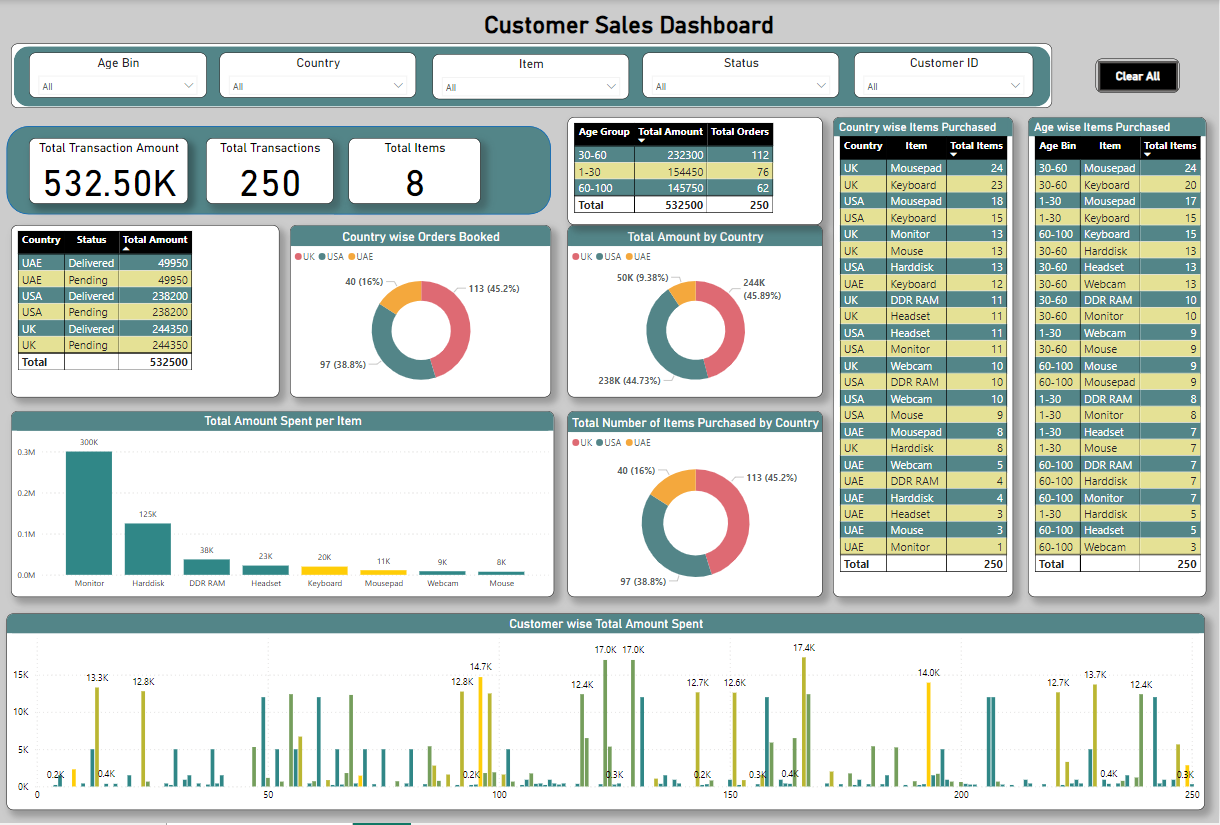

This screenshot's page, from the dashboard's own definition file:
{"tool":"powerbi","page":{"name":"Customer Sales","canvas":[1780,1200],"ordinal":0},"visuals":[{"type":"shape","box":[17.5,63.4,1517.9,94],"z":0,"group":"g1"},{"type":"shape","box":[10.9,183.7,793.9,129],"z":0},{"type":"card","title":"Total Transaction Amount","fields":{"Values":["Sum(Order.Amount)"]},"box":[43.7,201.2,231.8,96.2],"z":1000},{"type":"slicer","title":"Age Bin","fields":{"Values":["atkoe-u250m.Age Bin"]},"box":[44.5,76.6,259.2,65.8],"z":2000,"group":"g1"},{"type":"tableEx","fields":{"Values":["atkoe-u250m.Country","Shipping.Status","Sum(Order.Amount)"]},"box":[17.5,328.1,391.5,251.5],"z":2000},{"type":"slicer","title":"Item","fields":{"Values":["Order.Item"]},"box":[633,78.4,286.9,65.8],"z":3000,"group":"g1"},{"type":"clusteredColumnChart","title":"Customer wise Total Amount Spent","fields":{"Category":["atkoe-u250m.Customer_ID"],"Y":["Sum(Order.Amount)"]},"box":[10.9,894.5,1747.5,286.5],"z":3000},{"type":"slicer","title":"Country","fields":{"Values":["atkoe-u250m.Country"]},"box":[322.2,76.6,286.9,65.8],"z":4000,"group":"g1"},{"type":"donutChart","title":"Total Number of Items Purchased by Country","fields":{"Category":["atkoe-u250m.Country"],"Y":["CountNonNull(Order.Item)"]},"box":[828.9,599.3,371.8,271.2],"z":4000},{"type":"slicer","title":"Status","fields":{"Values":["Shipping.Status"]},"box":[938.4,76.6,286.9,65.8],"z":5000,"group":"g1"},{"type":"tableEx","title":"Age wise Items Purchased","fields":{"Values":["atkoe-u250m.Age Bin","Order.Item","CountNonNull(Order.Item)"]},"box":[1500.4,170.6,260.3,699.9],"z":5000},{"type":"slicer","title":"Customer ID","fields":{"Values":["atkoe-u250m.Customer_ID"]},"box":[1246.2,76.6,261.5,65.8],"z":6000,"group":"g1"},{"type":"clusteredColumnChart","title":"Total Amount Spent per Item","fields":{"Category":["Order.Item"],"Y":["Sum(Order.Amount)"]},"box":[17.5,599.3,791.8,271.2],"z":6000},{"type":"card","title":"Total Transactions","fields":{"Values":["CountNonNull(Order.Order_ID)"]},"box":[301.8,201.2,185.9,96.2],"z":7000},{"type":"tableEx","title":"Country wise Items Purchased","fields":{"Values":["atkoe-u250m.Country","Order.Item","CountNonNull(Order.Item)"]},"box":[1216.1,170.6,262.5,699.9],"z":8000},{"type":"donutChart","title":"Country wise Orders Booked","fields":{"Category":["atkoe-u250m.Country"],"Y":["Count(Order.Order_ID)"]},"box":[424.3,328.1,380.6,251.5],"z":9000},{"type":"donutChart","fields":{"Category":["atkoe-u250m.Country"],"Y":["Sum(Order.Amount)"]},"box":[828.9,328.1,371.8,251.5],"z":10000},{"type":"shape","box":[697.7,8.7,441.8,54.7],"z":11000},{"type":"group","id":"g1","title":"Group 1","box":[17.5,63.4,1517.9,94],"z":12000},{"type":"card","title":"Total Items","fields":{"Values":["Count(Order.Item)"]},"box":[509.6,201.2,192.5,96.2],"z":13000},{"type":"actionButton","box":[1598.8,85.3,122.5,50.3],"z":14000},{"type":"tableEx","fields":{"Values":["atkoe-u250m.Age Bin","Sum(Order.Amount)","CountNonNull(Order.Order_ID)"]},"box":[828.9,170.6,371.8,157.5],"z":14001}]}

Visuals, with their boxes in screenshot pixels (x1, y1, x2, y2), scaled from the page's 1780x1200 canvas onto the 1220x825 screenshot:
shape: {"x1": 12, "y1": 44, "x2": 1052, "y2": 108}
shape: {"x1": 7, "y1": 126, "x2": 552, "y2": 215}
"Total Transaction Amount" card: {"x1": 30, "y1": 138, "x2": 189, "y2": 204}
"Age Bin" slicer: {"x1": 30, "y1": 53, "x2": 208, "y2": 98}
tableEx - atkoe-u250m.Country x Shipping.Status: {"x1": 12, "y1": 226, "x2": 280, "y2": 398}
"Item" slicer: {"x1": 434, "y1": 54, "x2": 630, "y2": 99}
"Customer wise Total Amount Spent" clusteredColumnChart: {"x1": 7, "y1": 615, "x2": 1205, "y2": 812}
"Country" slicer: {"x1": 221, "y1": 53, "x2": 417, "y2": 98}
"Total Number of Items Purchased by Country" donutChart: {"x1": 568, "y1": 412, "x2": 823, "y2": 598}
"Status" slicer: {"x1": 643, "y1": 53, "x2": 840, "y2": 98}
"Age wise Items Purchased" tableEx: {"x1": 1028, "y1": 117, "x2": 1207, "y2": 598}
"Customer ID" slicer: {"x1": 854, "y1": 53, "x2": 1033, "y2": 98}
"Total Amount Spent per Item" clusteredColumnChart: {"x1": 12, "y1": 412, "x2": 555, "y2": 598}
"Total Transactions" card: {"x1": 207, "y1": 138, "x2": 334, "y2": 204}
"Country wise Items Purchased" tableEx: {"x1": 834, "y1": 117, "x2": 1013, "y2": 598}
"Country wise Orders Booked" donutChart: {"x1": 291, "y1": 226, "x2": 552, "y2": 398}
donutChart - atkoe-u250m.Country x Sum(Order.Amount): {"x1": 568, "y1": 226, "x2": 823, "y2": 398}
shape: {"x1": 478, "y1": 6, "x2": 781, "y2": 44}
"Group 1" group: {"x1": 12, "y1": 44, "x2": 1052, "y2": 108}
"Total Items" card: {"x1": 349, "y1": 138, "x2": 481, "y2": 204}
actionButton: {"x1": 1096, "y1": 59, "x2": 1180, "y2": 93}
tableEx - atkoe-u250m.Age Bin x Sum(Order.Amount): {"x1": 568, "y1": 117, "x2": 823, "y2": 226}
